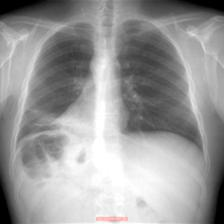tuberculosis: (8, 17, 214, 183)
